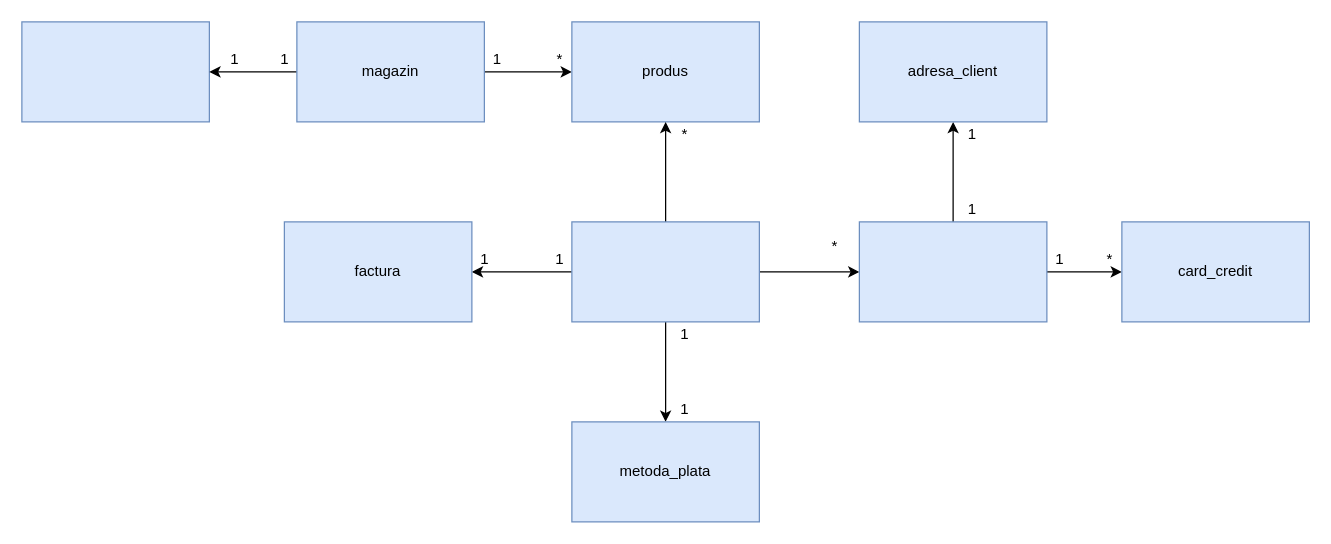
Some shapes in this 1331 by 544 pixel diagram are drawn without their labels. The shapes that lost their labels are listed below. From the top down, each one's centre as x and y in pixels, then its label:
the point at 115,71: contact_magazin
the point at 665,271: comanda_inregistrata
the point at 952,271: client_magazin
